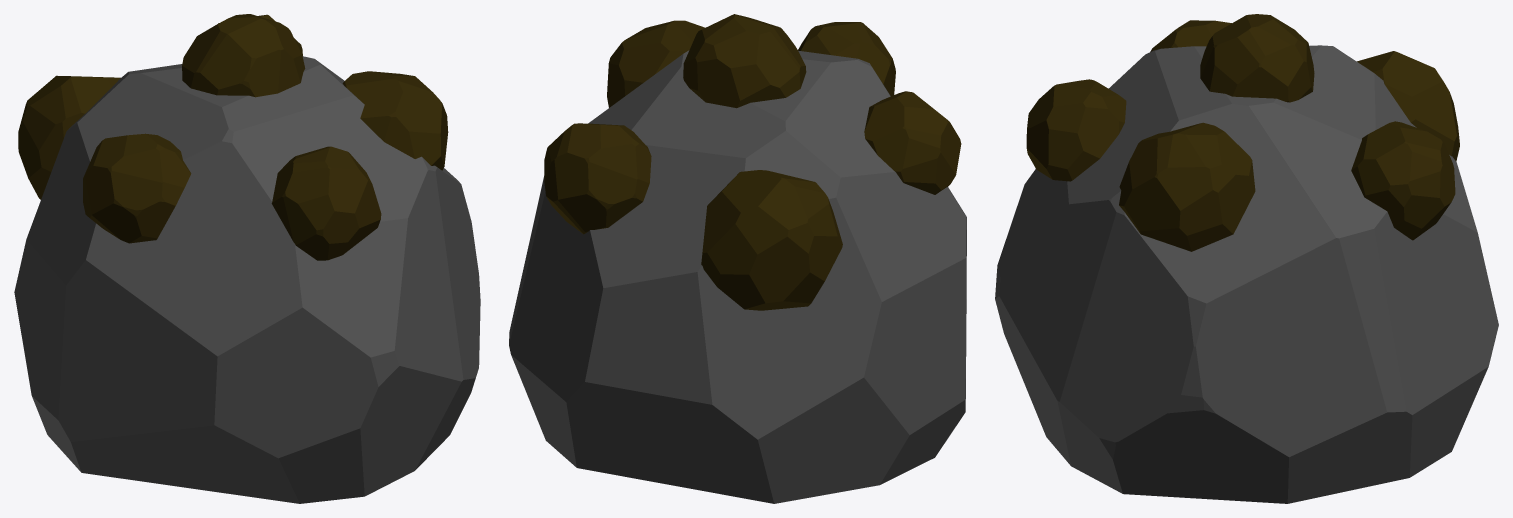
File: copper.glb
The picture shows the model from 3 angles, left to right: view 1: azimuth 30°, elevation 25°; view 2: azimuth 150°, elevation 25°; view 3: azimuth 270°, elevation 25°; orthographic projection.
Visible parts, largest first — view 1: Sphere.001, Sphere.004, Sphere.003, Sphere.006, Sphere.005, Sphere.007; view 2: Sphere.001, Sphere.007, Sphere.002, Sphere.006, Sphere.003, Sphere.005, Sphere.004; view 3: Sphere.001, Sphere.005, Sphere.002, Sphere.006, Sphere.004, Sphere.007, Sphere.003.
Boxes of the visible parts, bbox=[...] form: Sphere.001: bbox=[14, 56, 480, 503]; Sphere.004: bbox=[271, 146, 381, 260]; Sphere.003: bbox=[83, 133, 191, 243]; Sphere.006: bbox=[182, 14, 305, 97]; Sphere.005: bbox=[342, 71, 448, 170]; Sphere.007: bbox=[18, 75, 120, 199]; Sphere.001: bbox=[509, 50, 966, 503]; Sphere.007: bbox=[701, 170, 842, 310]; Sphere.002: bbox=[544, 123, 651, 234]; Sphere.006: bbox=[683, 14, 806, 108]; Sphere.003: bbox=[864, 91, 961, 194]; Sphere.005: bbox=[607, 20, 704, 107]; Sphere.004: bbox=[798, 22, 895, 96]; Sphere.001: bbox=[995, 45, 1498, 503]; Sphere.005: bbox=[1119, 122, 1255, 251]; Sphere.002: bbox=[1351, 121, 1455, 240]; Sphere.006: bbox=[1200, 14, 1314, 102]; Sphere.004: bbox=[1026, 79, 1126, 181]; Sphere.007: bbox=[1357, 51, 1459, 161]; Sphere.003: bbox=[1150, 20, 1231, 51].
Bounding box in the file's own units: 5.62 × 5.37 × 6.
